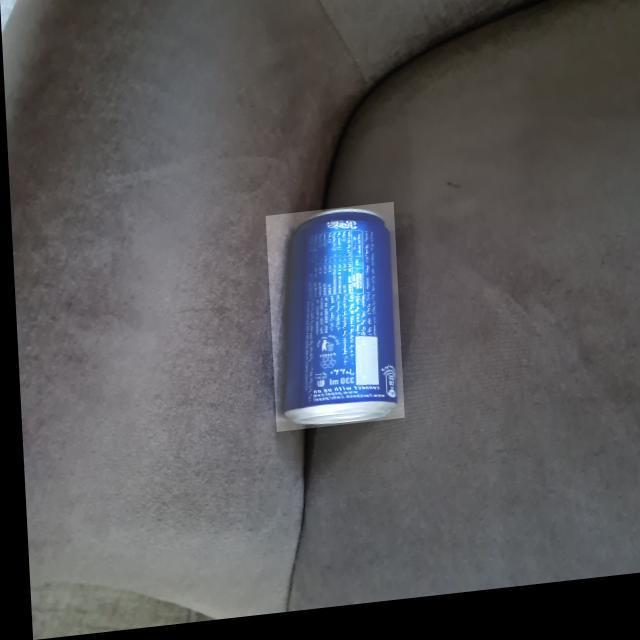trash: (277, 208, 399, 432)
